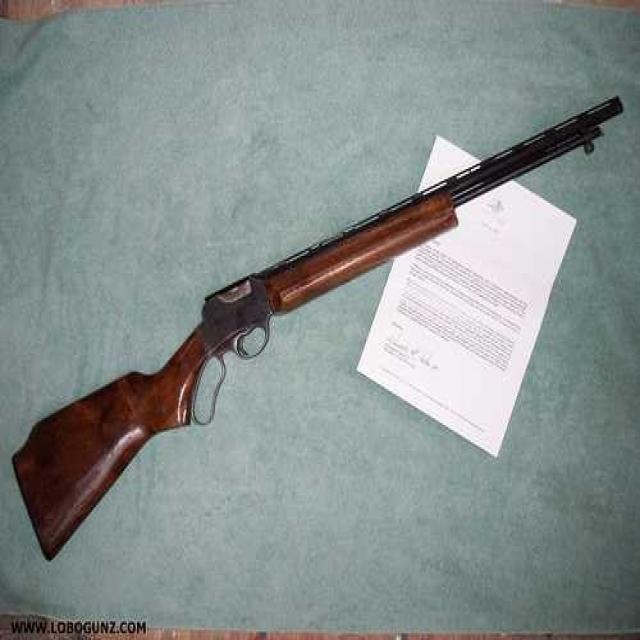heavyweapon: (15, 68, 630, 576)
